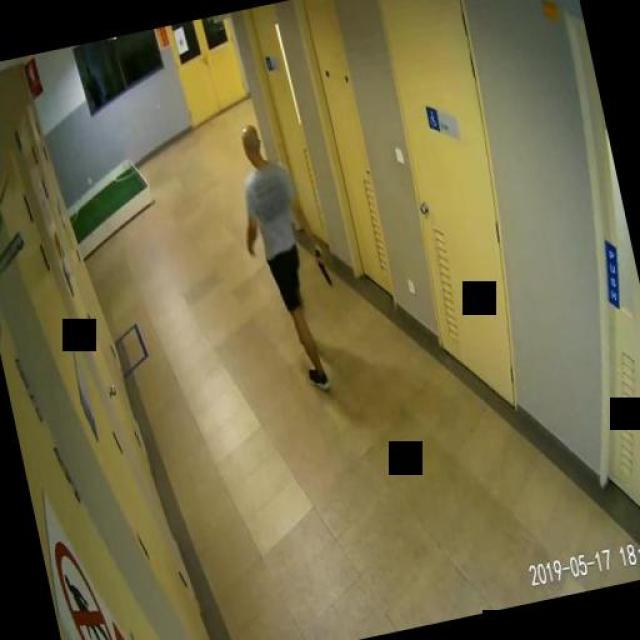gun: (310, 242, 330, 286)
